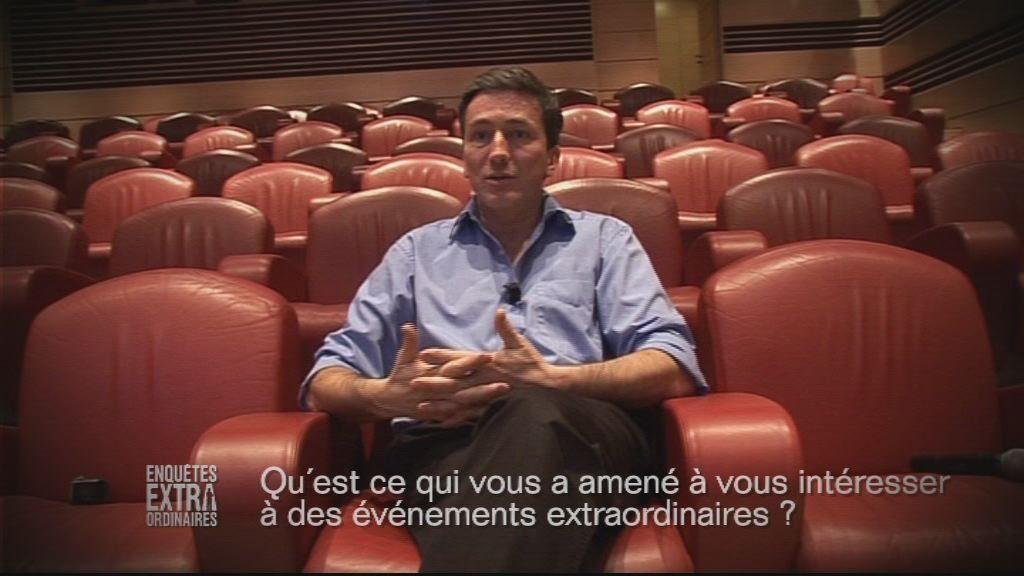face: (468, 92, 550, 206)
